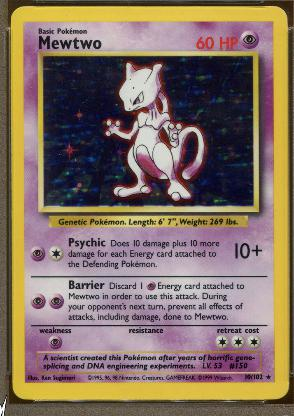Card: (9, 5, 289, 400)
